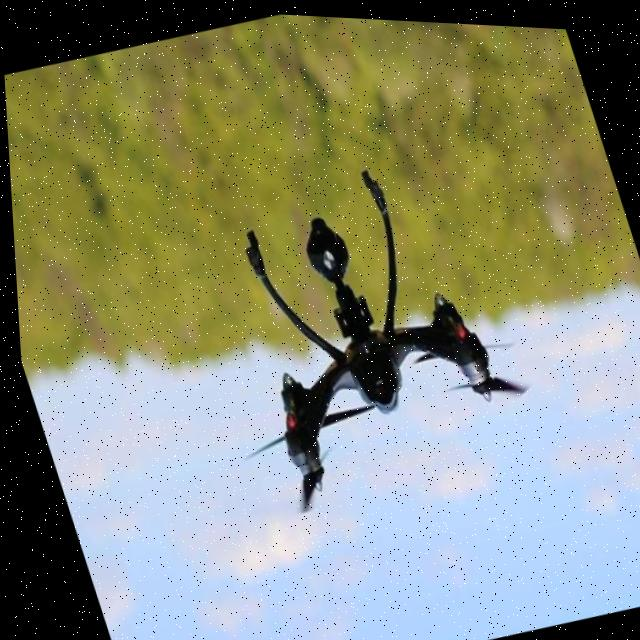drones: (131, 79, 574, 560)
